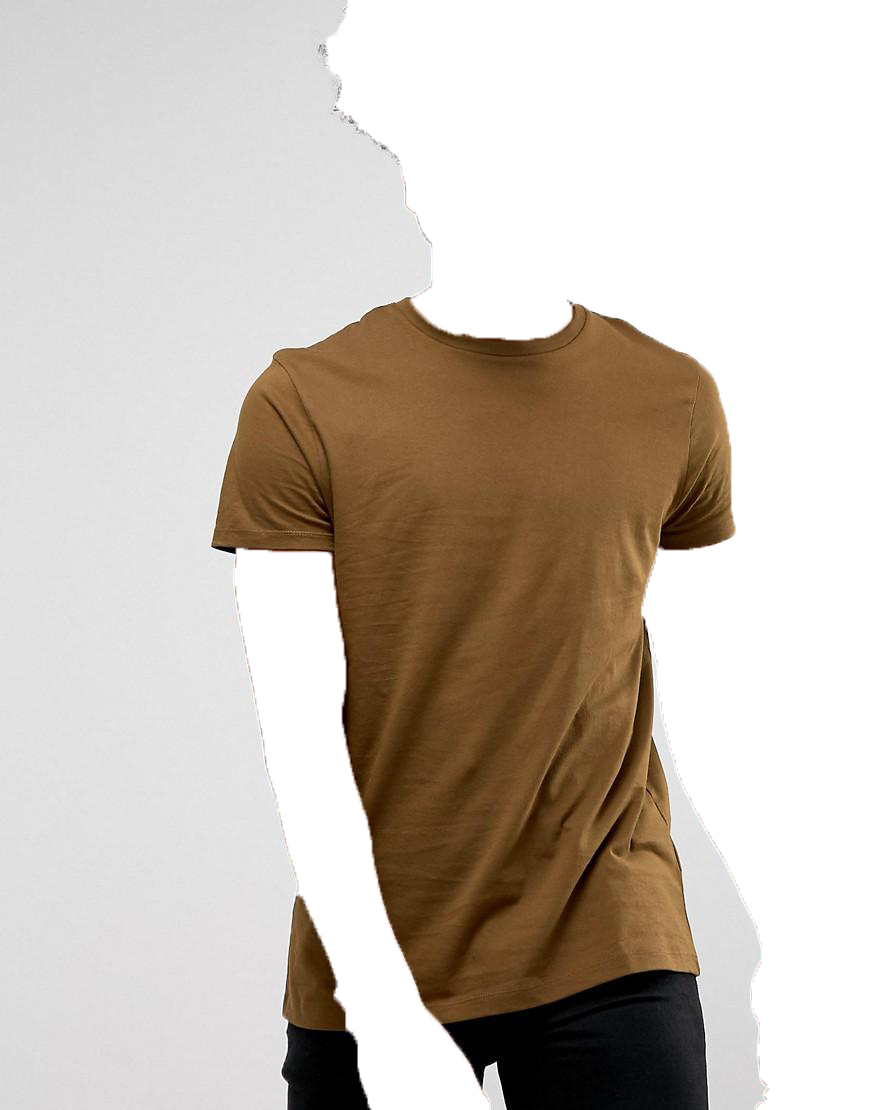teeshirt: (207, 288, 771, 1015)
